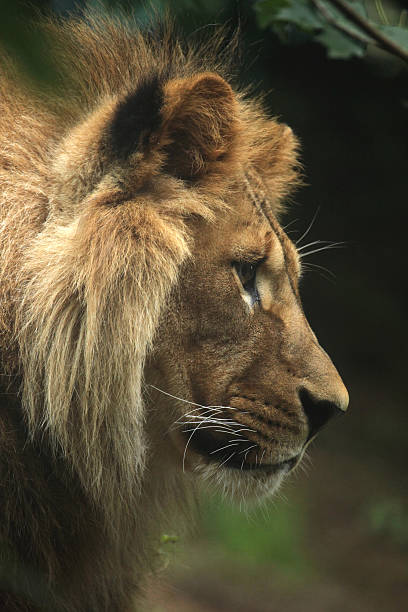lion: (14, 34, 377, 585)
